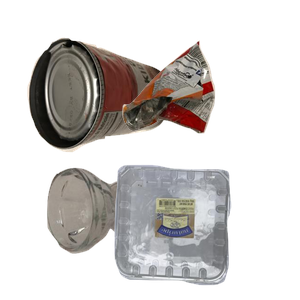glass: (44, 165, 178, 300)
metal: (25, 35, 189, 180)
plastic: (112, 162, 300, 300)
trash: (120, 38, 300, 164)
